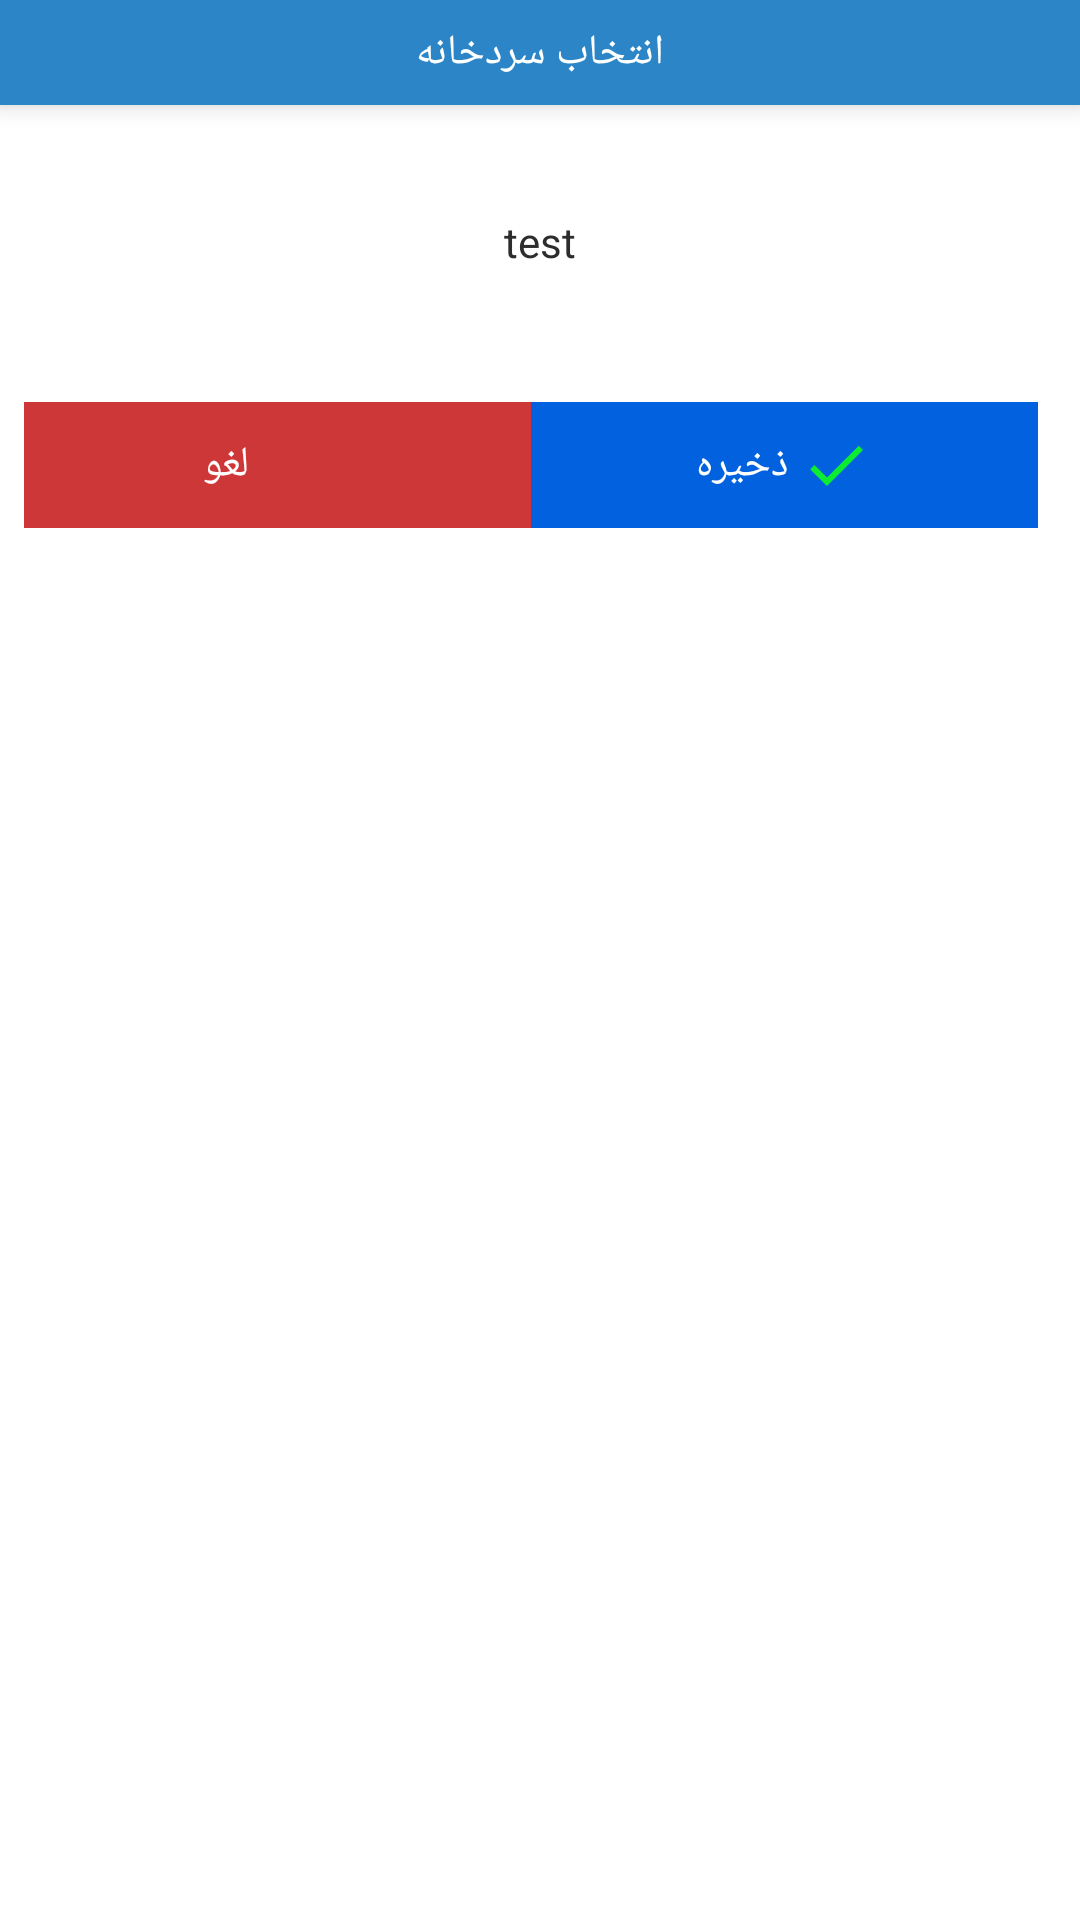

Icons on this 1080x1920 Android screen, each with the point to tap as (x=x, y=y):
done: (x=836, y=466)
